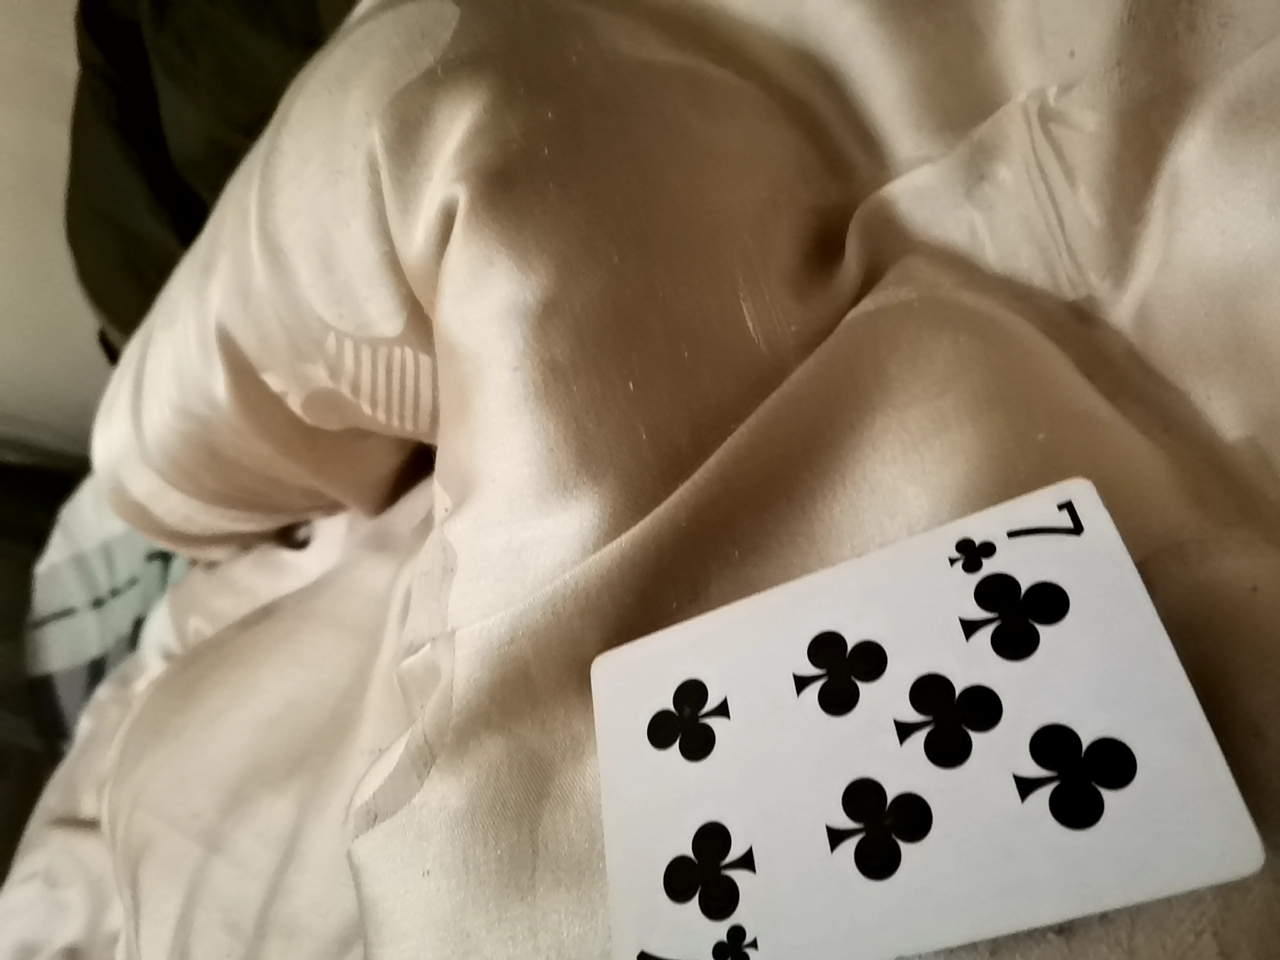mh 7: (562, 476, 1266, 954)
